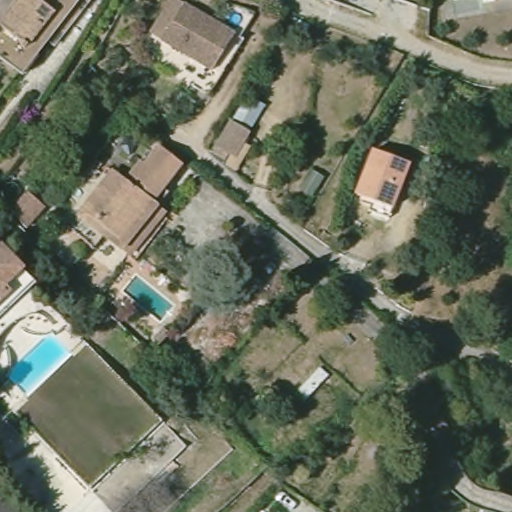pool: (8, 334, 73, 397), (119, 271, 180, 324), (222, 8, 245, 34)
